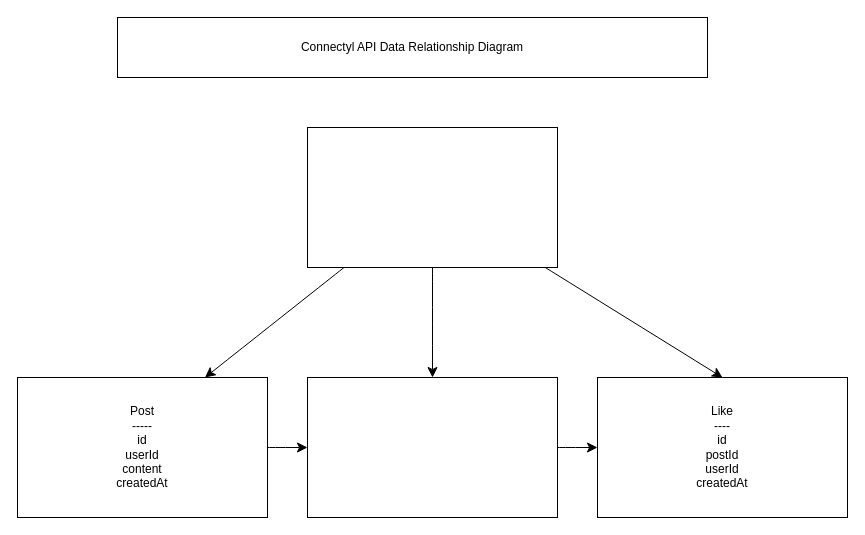
The diagram is 865 pixels wide and 535 high, and some of its shapes have lost their labels. The shapes that lost their labels are listed below. From the top down, each one's centre as x and y in pixels, then its label:
point (432, 197): User ----- id name email googleId createdAt
point (432, 447): Comment ------- id postId userId text createdAt
